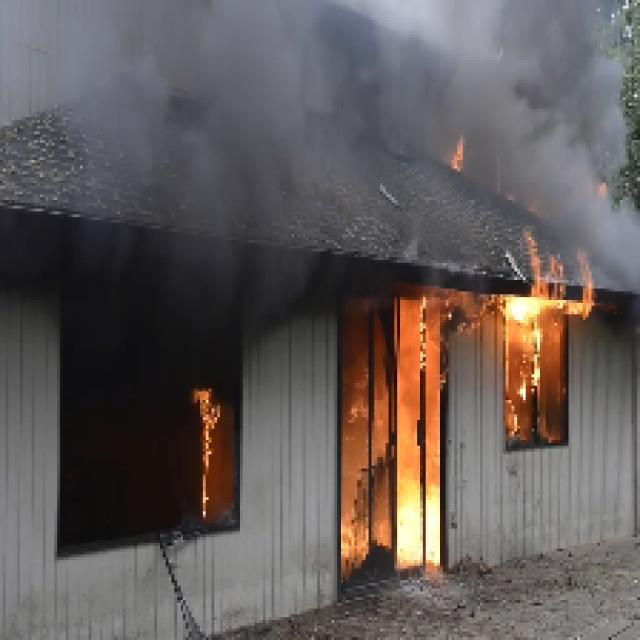Smoke: (105, 2, 615, 178)
